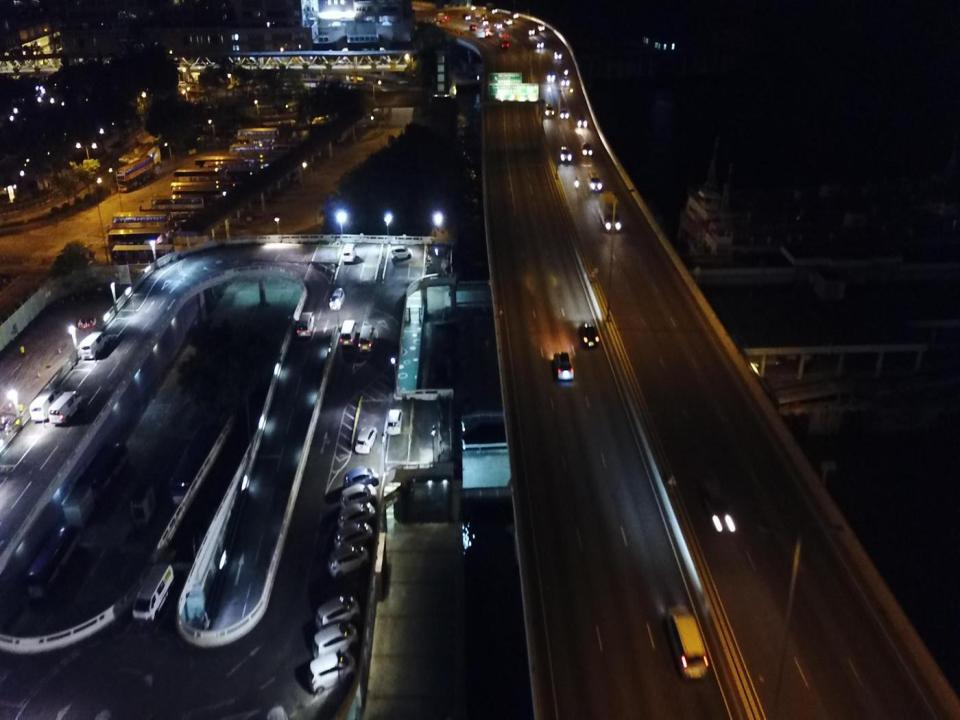bus: (26, 524, 80, 598), (76, 439, 130, 500), (112, 244, 173, 270), (108, 228, 174, 252), (115, 156, 156, 192), (112, 211, 172, 235), (226, 167, 279, 191), (151, 194, 208, 216), (172, 184, 224, 204), (193, 156, 241, 176), (172, 168, 222, 187), (228, 144, 272, 164), (272, 142, 312, 162), (236, 128, 278, 147), (498, 32, 509, 48)
car: (309, 651, 357, 697), (313, 621, 357, 658), (316, 595, 360, 630), (700, 483, 732, 531), (329, 546, 370, 580), (334, 522, 373, 552), (339, 502, 375, 529), (344, 466, 379, 492), (343, 483, 377, 509), (356, 425, 377, 454), (554, 351, 574, 381), (580, 321, 599, 348), (387, 408, 403, 437), (391, 244, 411, 261), (343, 244, 356, 265), (559, 146, 571, 161), (581, 142, 592, 156), (577, 115, 587, 128), (559, 109, 568, 119), (546, 73, 555, 82), (504, 17, 512, 25), (554, 52, 562, 60), (562, 78, 570, 86), (536, 40, 543, 48), (494, 21, 501, 28), (463, 14, 470, 20), (470, 24, 477, 30), (529, 28, 534, 35), (513, 12, 518, 18), (538, 25, 545, 29), (469, 5, 475, 9)
truck: (599, 192, 619, 231), (475, 14, 488, 23), (486, 3, 496, 12)
van: (666, 606, 708, 680), (132, 562, 175, 623), (50, 391, 82, 423), (30, 390, 60, 421), (80, 330, 108, 361), (340, 319, 357, 347), (359, 323, 375, 351), (298, 311, 314, 338), (328, 284, 345, 309), (588, 171, 601, 191), (546, 103, 554, 115)
